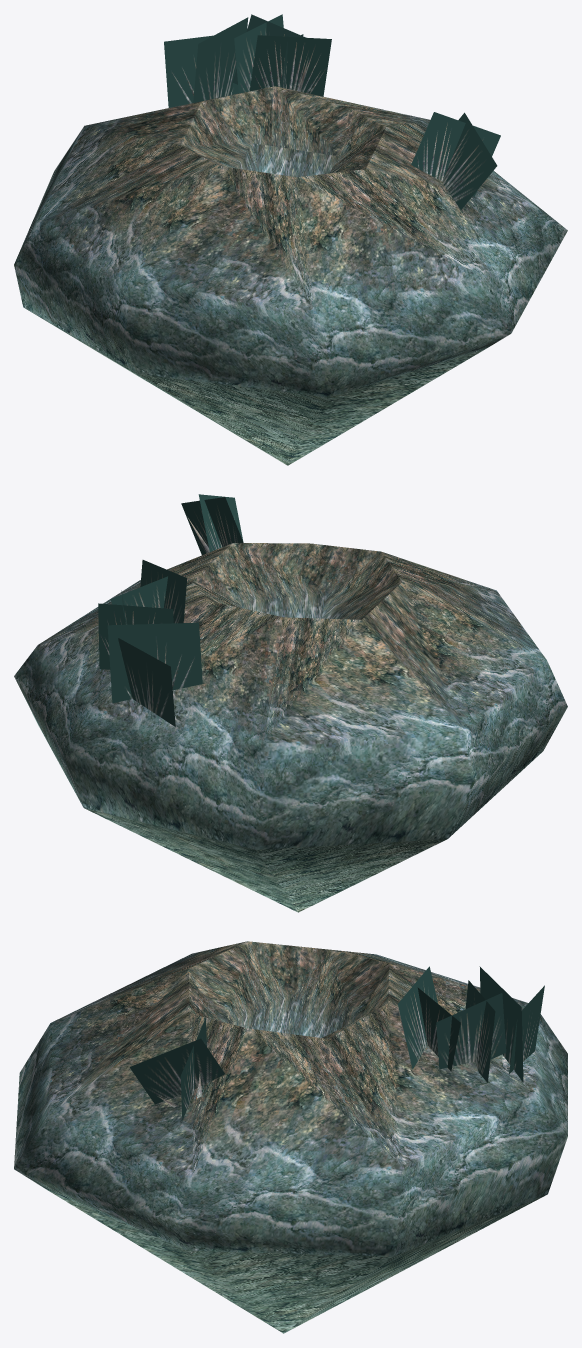
File: rock_crystl_mound_med_l2.fbx
3 views of the same model, one above another, from view 1: azimuth 30°, elevation 25°; view 2: azimuth 150°, elevation 25°; view 3: azimuth 270°, elevation 25° (orthographic). The views are drawn at different scales.
Parts seen in each view (by area): view 1: mesh_node; view 2: mesh_node; view 3: mesh_node.
Part boxes in pixels (x1,y1,x2,y2): mesh_node: [14, 14, 567, 465]; mesh_node: [14, 494, 567, 912]; mesh_node: [14, 941, 567, 1333].
Bounding box in the file's own units: 15.54 × 12.15 × 15.73.
